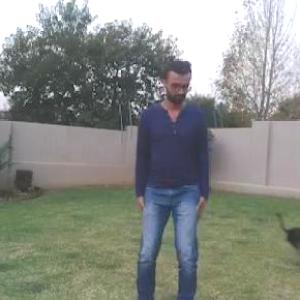follow: (134, 35, 213, 299)
